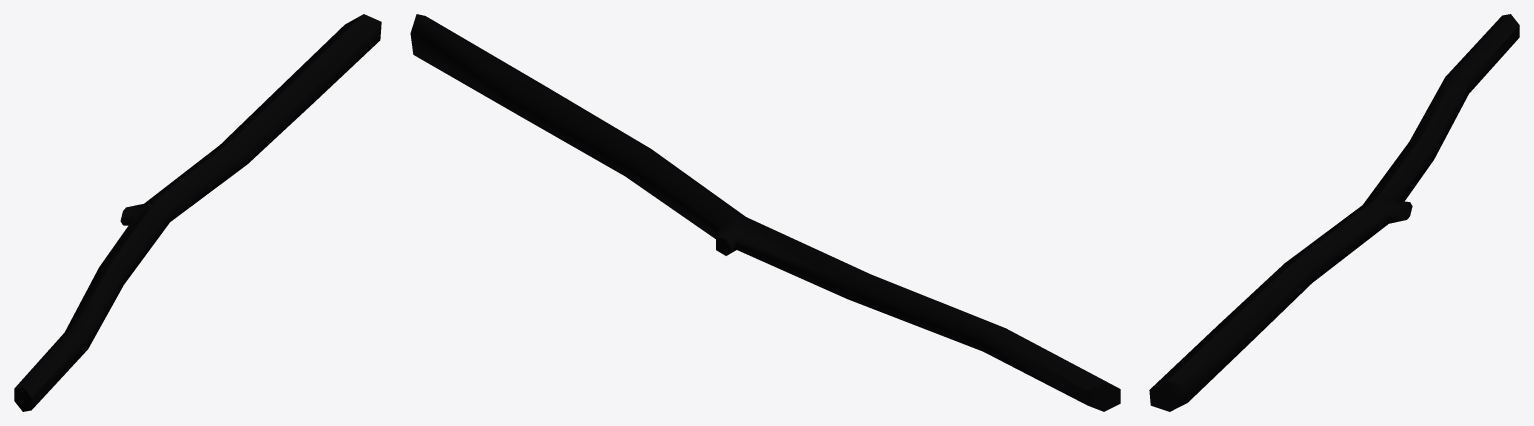
3 renders of one model, left to right at view 1: azimuth 90°, elevation 25°; view 2: azimuth 150°, elevation 25°; view 3: azimuth 270°, elevation 25°, orthographic. The views are drawn at different scales.
Visible parts, largest first — view 1: Joint_0_Object_0, Joint_0_Object_1; view 2: Joint_0_Object_0, Joint_0_Object_1; view 3: Joint_0_Object_0, Joint_0_Object_1.
Boxes of the visible parts, x1,y1,x2,y2 form: Joint_0_Object_0: (14,14,381,409); Joint_0_Object_1: (14,387,31,411); Joint_0_Object_0: (410,14,1118,405); Joint_0_Object_1: (716,236,1120,411); Joint_0_Object_0: (1150,14,1519,402); Joint_0_Object_1: (1149,202,1412,411).
Size of the model in its own units: 1181 by 50 by 491.
Materials: 2 (2 with a texture image).
